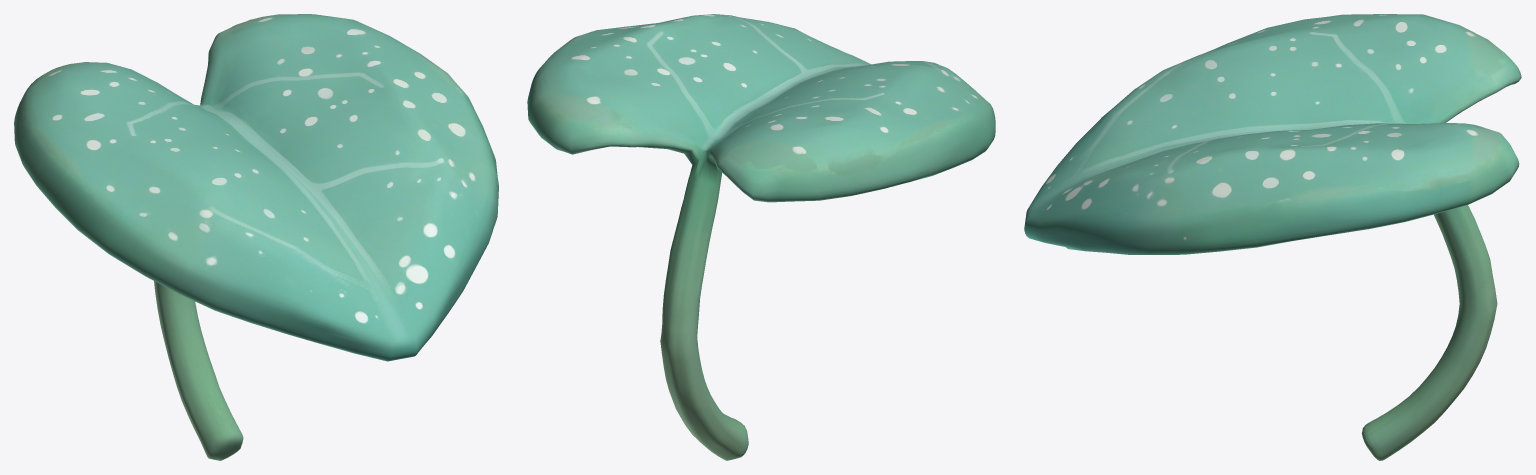
The model's file is pothos_mint_dot.glb.
3 renders of one model, left to right at view 1: azimuth 30°, elevation 25°; view 2: azimuth 150°, elevation 25°; view 3: azimuth 270°, elevation 25°, orthographic. The views are drawn at different scales.
Bounding box in the file's own units: 1.81 × 1.68 × 2.
Materials: 1 (1 with a texture image).
